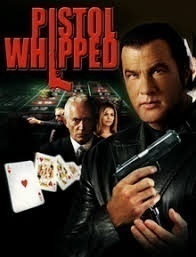pistol: (100, 123, 185, 184)
